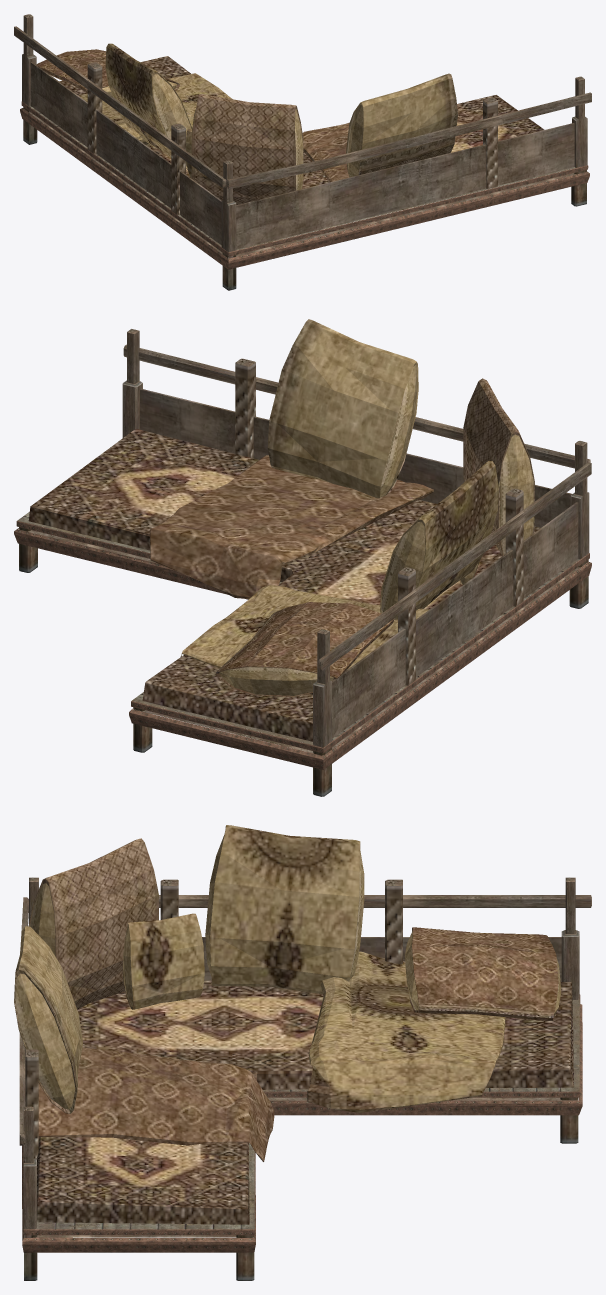
File: TW2_5_FUR_01_5-transformed.glb
3 views of the same model, one above another, from view 1: azimuth 30°, elevation 25°; view 2: azimuth 150°, elevation 25°; view 3: azimuth 270°, elevation 25° (orthographic). The views are drawn at different scales.
Visible parts, largest first — view 1: default; view 2: default; view 3: default.
Part boxes in pixels (x1=…): default: x1=14, y1=14, x2=591, y2=290; default: x1=14, y1=319, x2=591, y2=796; default: x1=14, y1=825, x2=591, y2=1280.
Size of the model in its own units: 3.61 by 1.56 by 3.68.
3 materials, 3 textured.
